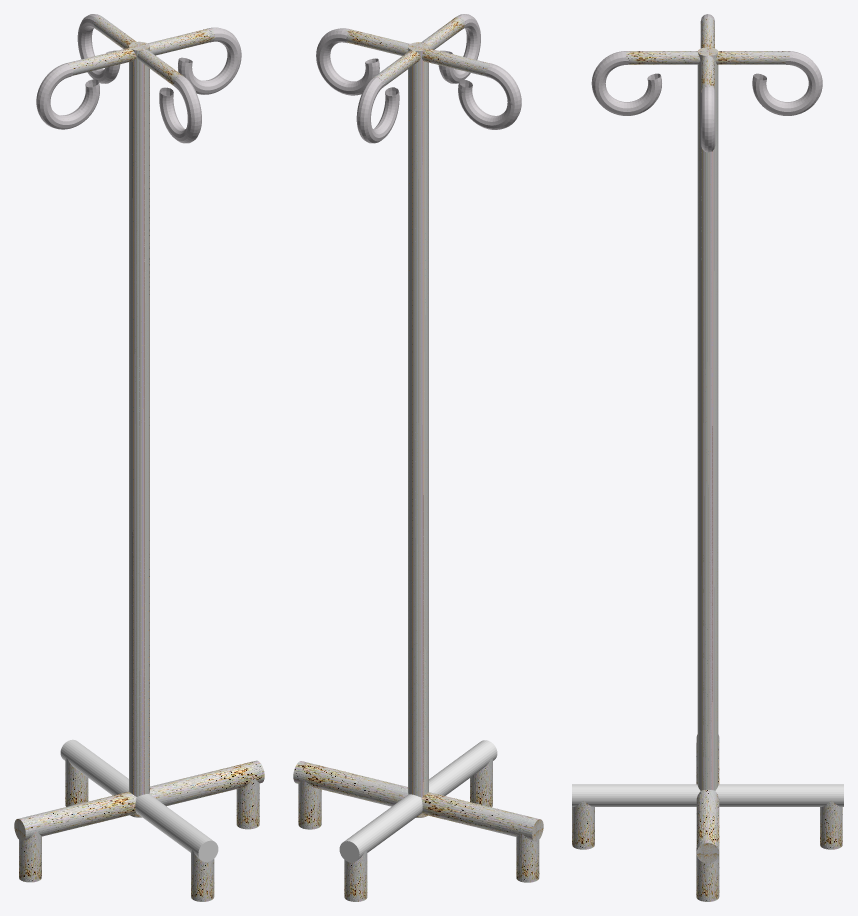
File: clean_drip_nobottle.glb
3 renders of one model, left to right at view 1: azimuth 30°, elevation 25°; view 2: azimuth 150°, elevation 25°; view 3: azimuth 270°, elevation 25°, orthographic.
Visible parts, largest first — view 1: Цилиндр.002; view 2: Цилиндр.002; view 3: Цилиндр.002.
Boxes of the visible parts, x1,y1,x2,y2 form: Цилиндр.002: (14, 14, 264, 901); Цилиндр.002: (293, 14, 543, 901); Цилиндр.002: (572, 14, 843, 901).
Size of the model in its own units: 2.81 by 9.05 by 2.81.
Materials: 1 (1 with a texture image).
